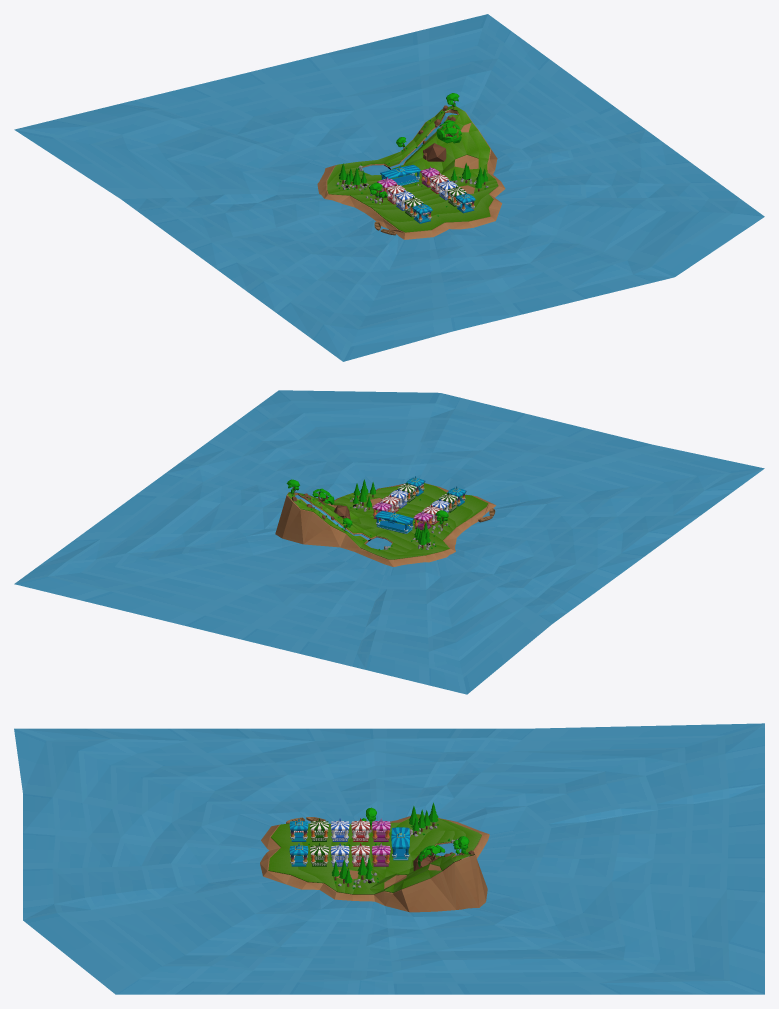
Rendered from packed.glb.
3 renders of one model, top to bottom at view 1: azimuth 30°, elevation 25°; view 2: azimuth 150°, elevation 25°; view 3: azimuth 270°, elevation 25°, orthographic. The views are drawn at different scales.
Parts seen in each view (by area): view 1: Envi; view 2: Envi, Panggung; view 3: Envi, Panggung.
Boxes of the visible parts, x1,y1,x2,y2 form: Envi: (14,14,764,361); Envi: (14,390,764,694); Panggung: (375,510,413,533); Envi: (14,723,764,994); Panggung: (391,827,409,860).
Bounding box in the file's own units: 128 × 14.09 × 150.
Materials: 8 (8 with a texture image).
